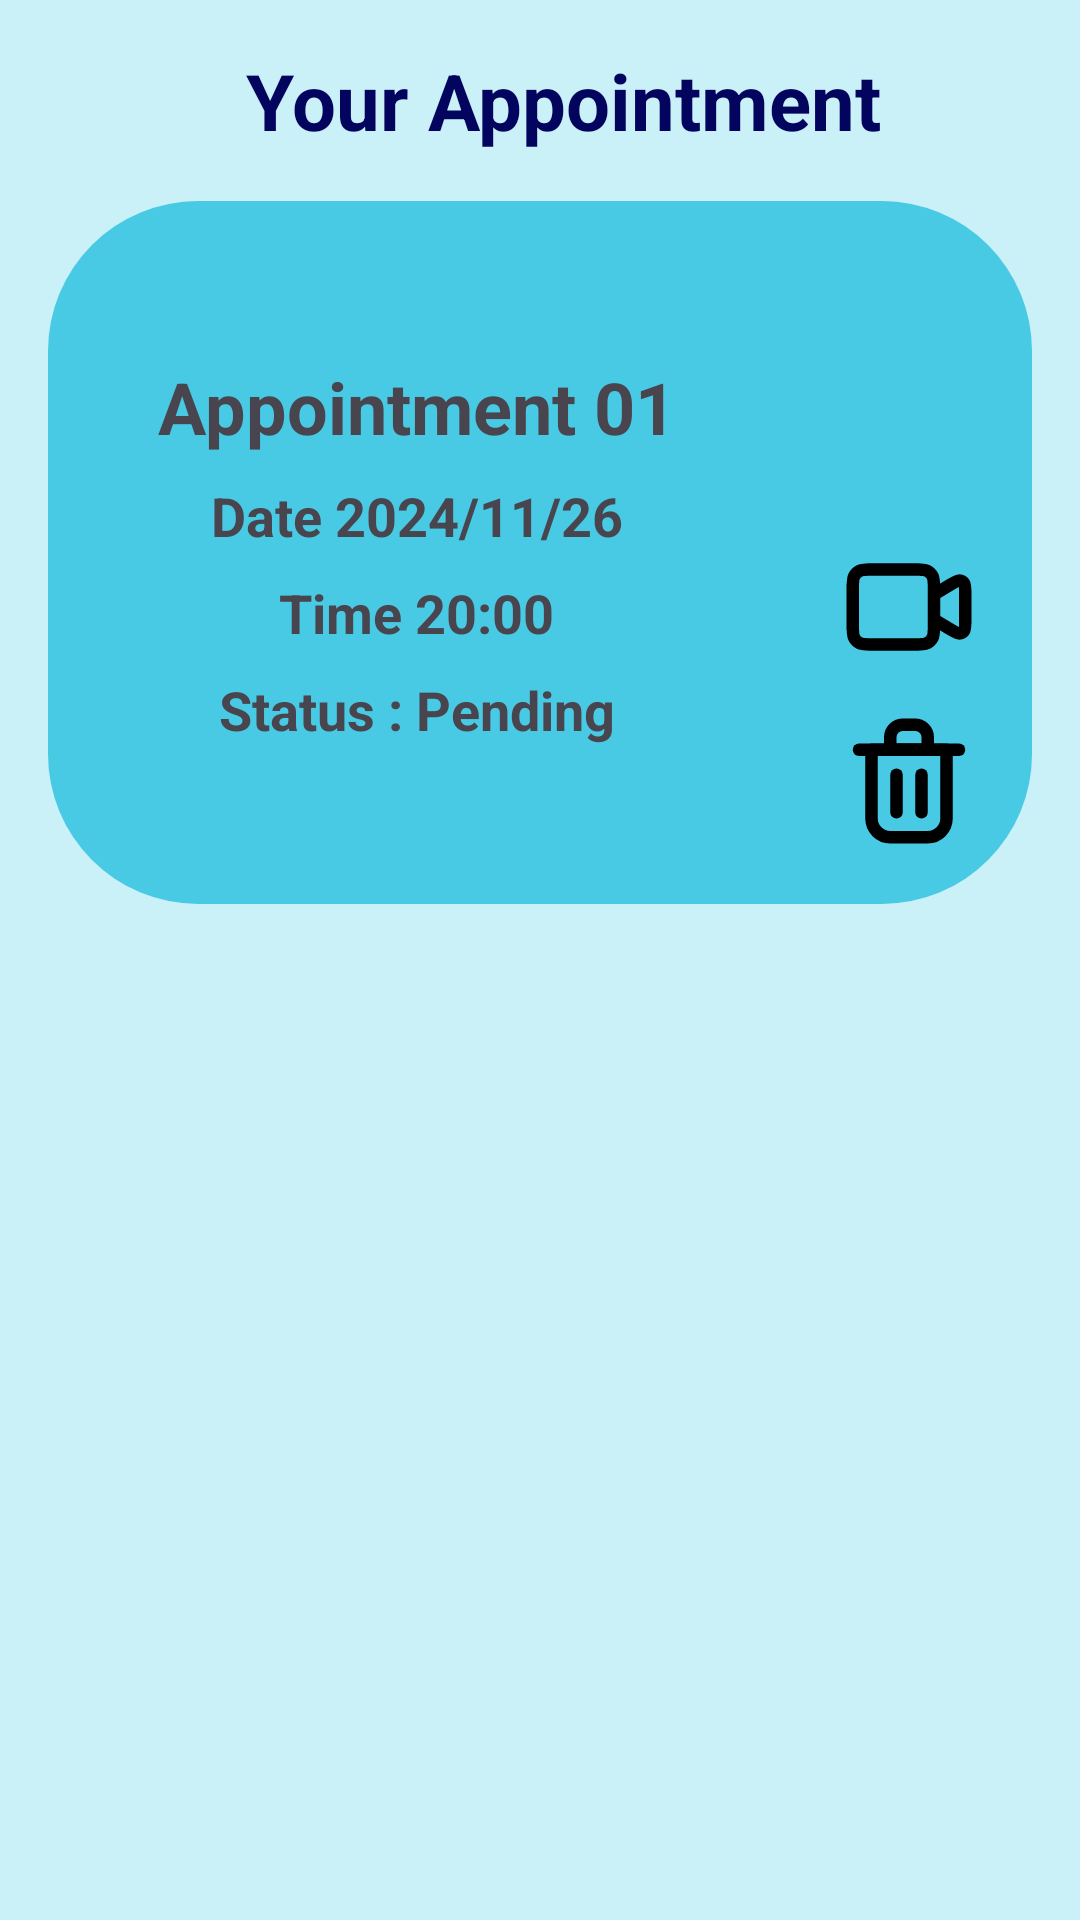

Screen size 1080w x 1920h. Icon name, then its center in pixels as (x=x, y=y):
delete: (x=909, y=781)
video: (x=909, y=607)
